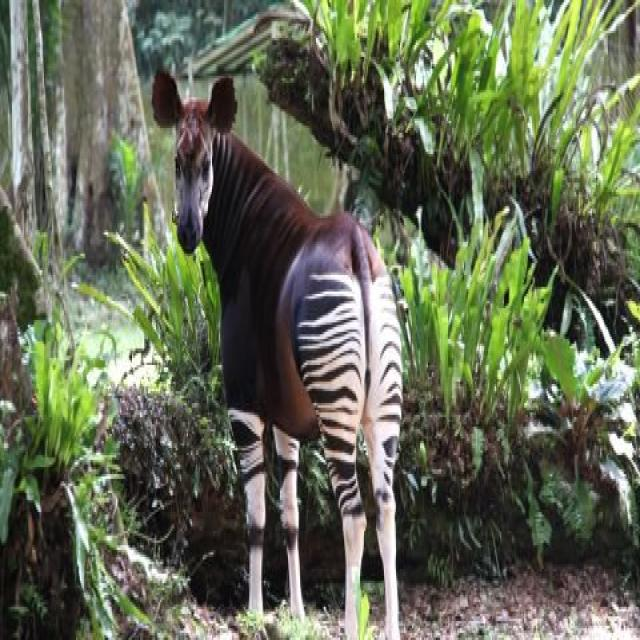Okapi: (148, 50, 404, 640)
